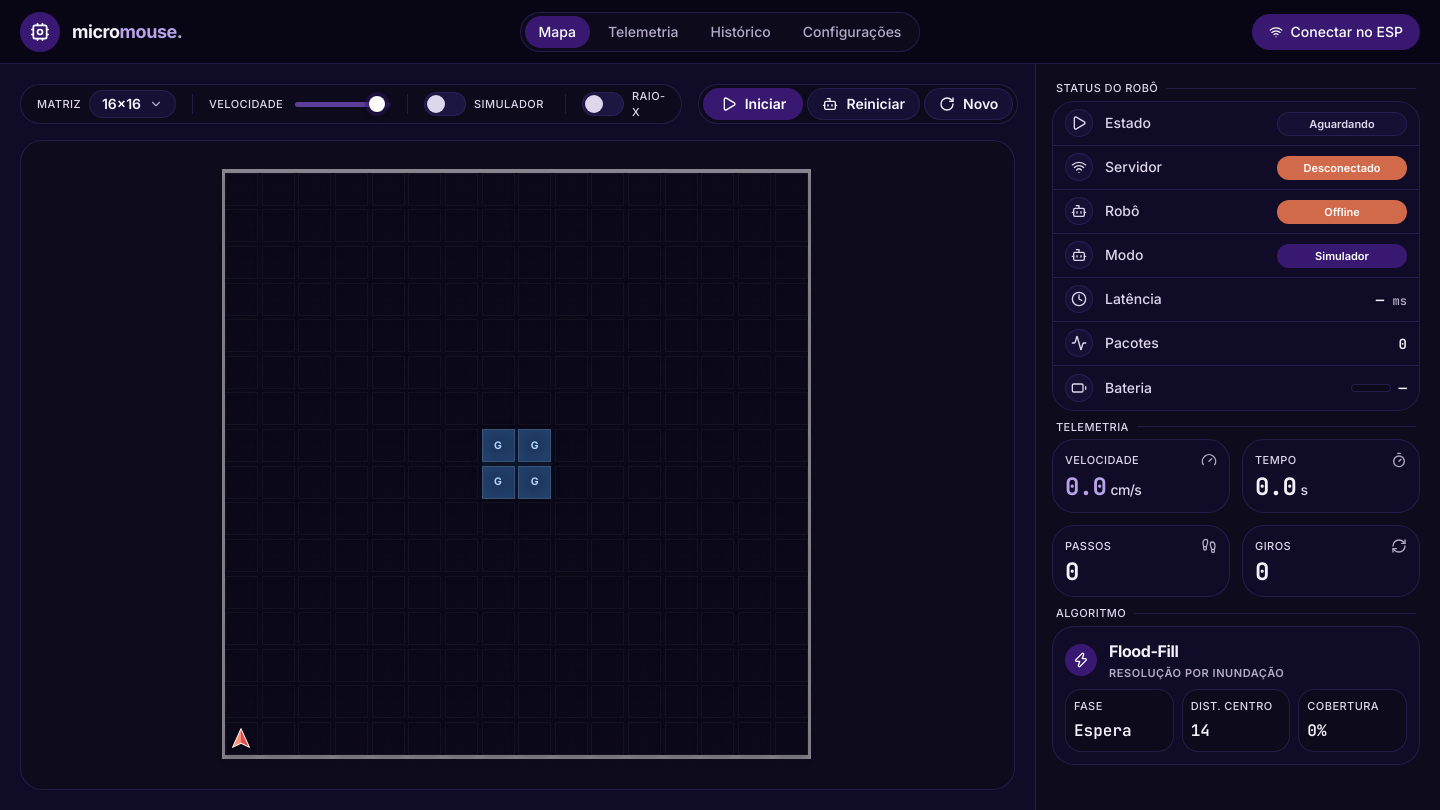
it: histórico: tabela, filtro e CSV › carrega corridas do backend ao abrir a aba
Click the button "Histórico". click: (741, 32)
box: [696,16,785,48]
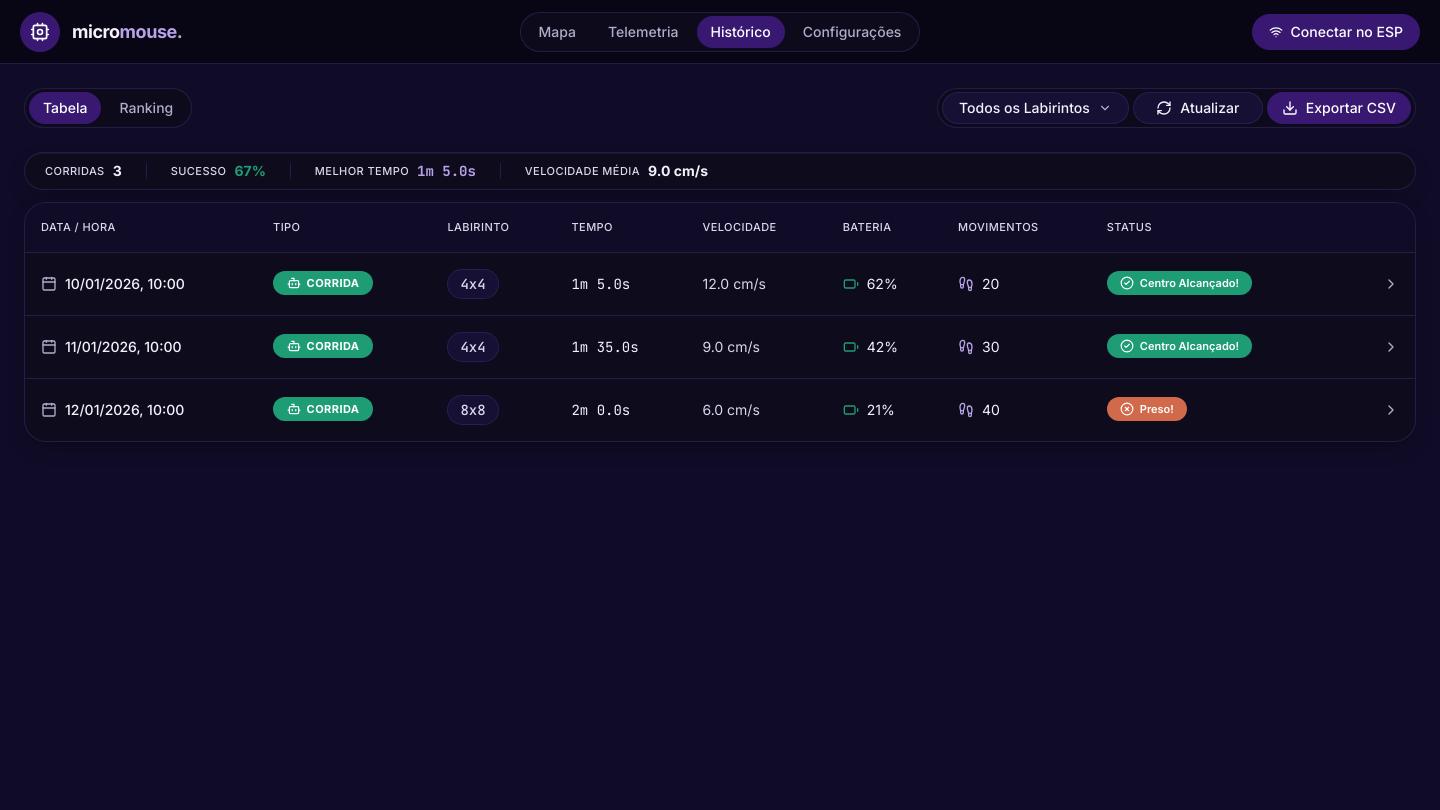
Expected: the element with test id "historico-view" is shown
Expected: the number of rows with test id "corrida-item" is 3, [25,252,1415,315]; [25,315,1415,378]; [25,378,1415,440]
